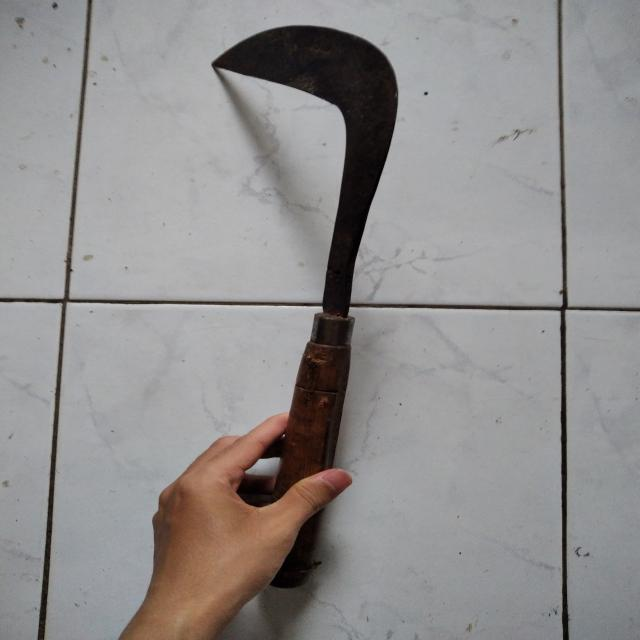Celurit: (210, 24, 399, 594)
